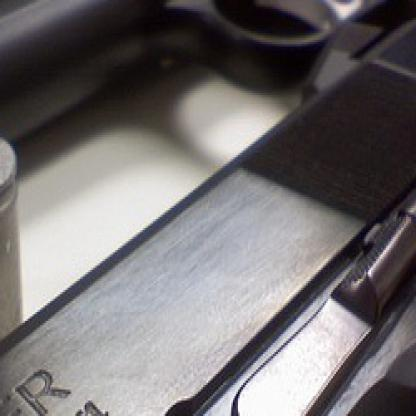gun: (0, 11, 415, 414), (0, 0, 415, 262)
